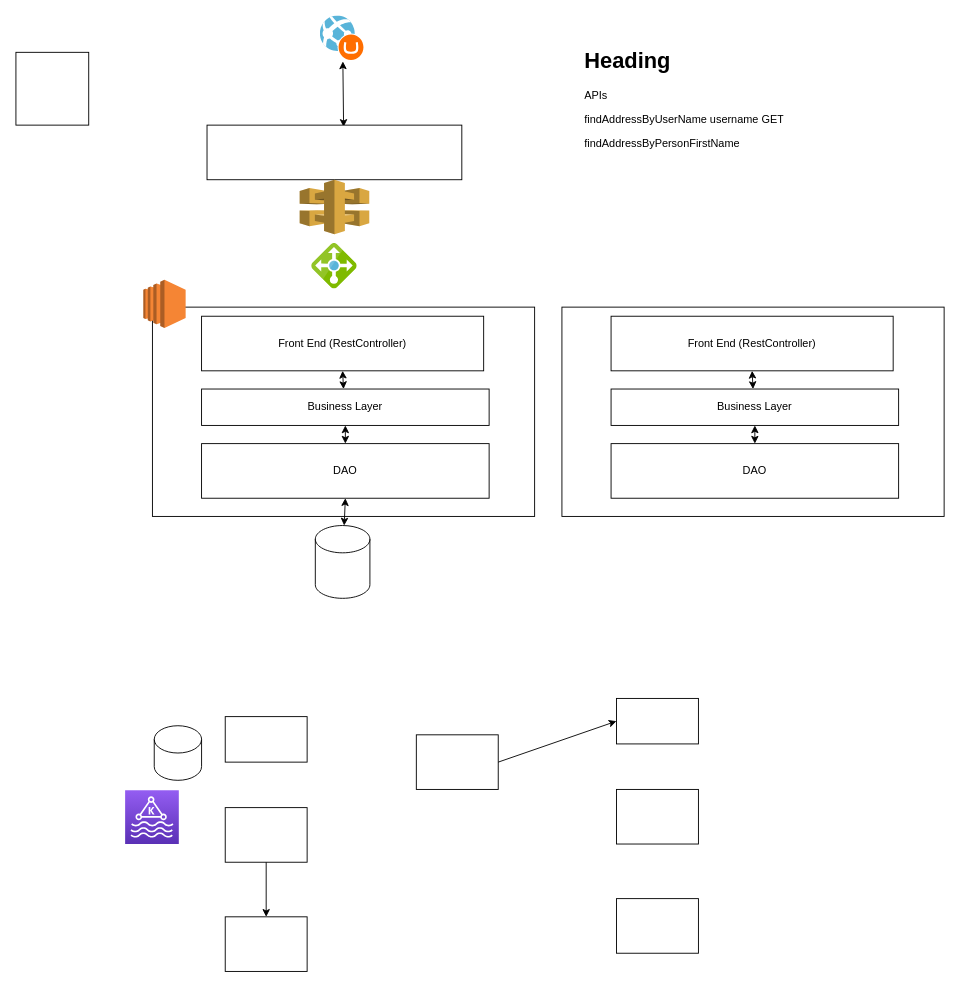
The diagram is 960 pixels wide and 987 high, and some of its shapes have lost their labels. Each missing label, with the box of its shape:
Address: (314, 525, 370, 598)
Angular/React: (206, 124, 462, 180)
Auth0: (15, 51, 89, 125)
